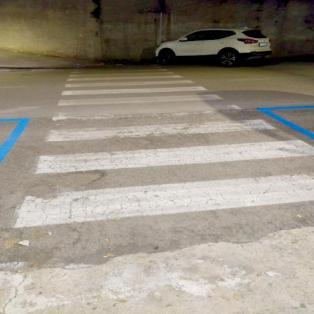Paso de Cebra: (32, 117, 313, 177), (61, 78, 212, 97)
